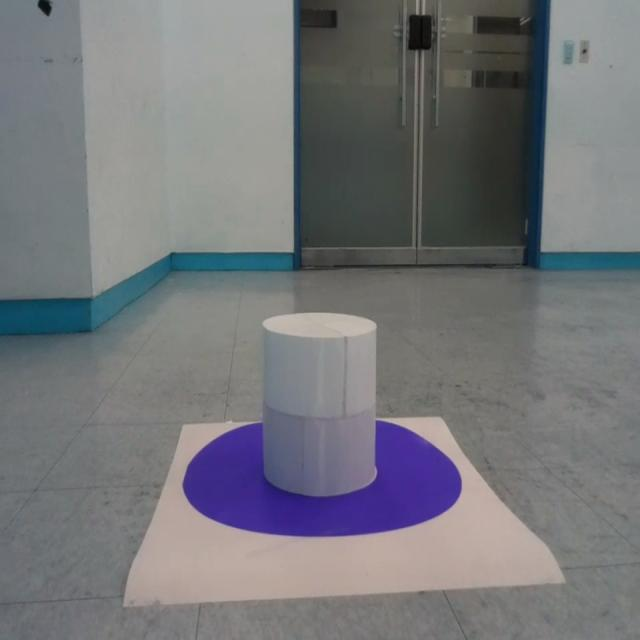cylinder: (260, 311, 378, 498)
